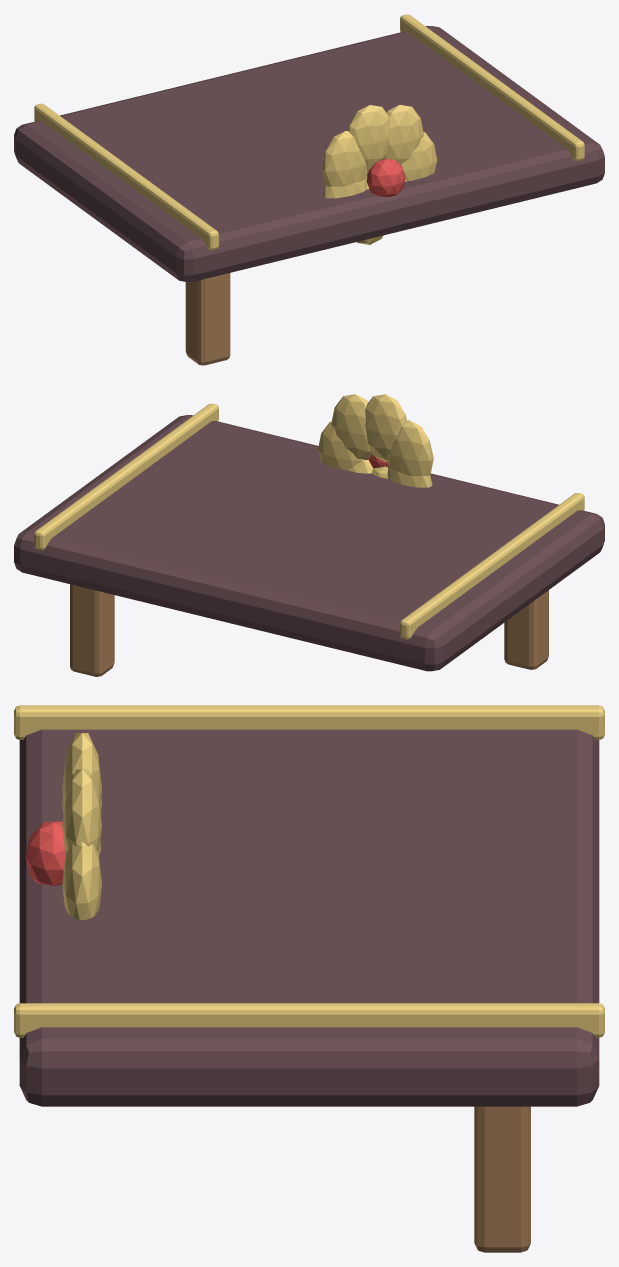
The model's file is shinji_houbei_tray.glb.
3 views of the same model, one above another, from view 1: azimuth 30°, elevation 25°; view 2: azimuth 150°, elevation 25°; view 3: azimuth 270°, elevation 25° (orthographic). The views are drawn at different scales.
Visible parts, largest first — view 1: Raised houbei offering lacquer tray, Four legs below offering tray, Gilt rim, Gilt rim.001, Houbei gold crest petal.003, Houbei gold crest petal.002, Houbei gold crest petal.001, Houbei gold crest center, Houbei gold crest petal, Houbei gold crest petal.004; view 2: Raised houbei offering lacquer tray, Four legs below offering tray.001, Gilt rim, Gilt rim.001, Four legs below offering tray, Houbei gold crest petal.002, Houbei gold crest petal.003, Houbei gold crest petal.001, Houbei gold crest petal, Houbei gold crest petal.004; view 3: Raised houbei offering lacquer tray, Gilt rim, Gilt rim.001, Four legs below offering tray.001, Houbei gold crest petal, Houbei gold crest petal.001, Houbei gold crest center, Houbei gold crest petal.002.
Boxes of the visible parts, left/top/right/bottom form: Raised houbei offering lacquer tray: left=14, top=26, right=604, bottom=282; Four legs below offering tray: left=185, top=273, right=230, bottom=365; Gilt rim: left=34, top=103, right=218, bottom=250; Gilt rim.001: left=400, top=14, right=584, bottom=160; Houbei gold crest petal.003: left=321, top=131, right=367, bottom=186; Houbei gold crest petal.002: left=348, top=105, right=389, bottom=172; Houbei gold crest petal.001: left=385, top=105, right=423, bottom=164; Houbei gold crest center: left=366, top=158, right=405, bottom=196; Houbei gold crest petal: left=401, top=132, right=437, bottom=180; Houbei gold crest petal.004: left=322, top=176, right=367, bottom=198; Raised houbei offering lacquer tray: left=14, top=415, right=604, bottom=671; Four legs below offering tray.001: left=70, top=584, right=114, bottom=676; Gilt rim: left=400, top=493, right=584, bottom=639; Gilt rim.001: left=34, top=403, right=218, bottom=550; Four legs below offering tray: left=504, top=590, right=548, bottom=669; Houbei gold crest petal.002: left=365, top=394, right=406, bottom=461; Houbei gold crest petal.003: left=387, top=420, right=433, bottom=476; Houbei gold crest petal.001: left=331, top=394, right=372, bottom=460; Houbei gold crest petal: left=318, top=421, right=362, bottom=470; Houbei gold crest petal.004: left=387, top=465, right=432, bottom=487; Raised houbei offering lacquer tray: left=19, top=729, right=599, bottom=1106; Gilt rim: left=14, top=705, right=604, bottom=739; Gilt rim.001: left=14, top=1003, right=604, bottom=1037; Four legs below offering tray.001: left=474, top=1106, right=530, bottom=1252; Houbei gold crest petal: left=62, top=842, right=101, bottom=919; Houbei gold crest petal.001: left=62, top=769, right=101, bottom=854; Houbei gold crest center: left=25, top=821, right=65, bottom=886; Houbei gold crest petal.002: left=62, top=733, right=101, bottom=806.
Size of the model in its own units: 1.95 by 0.9777 by 1.4.
